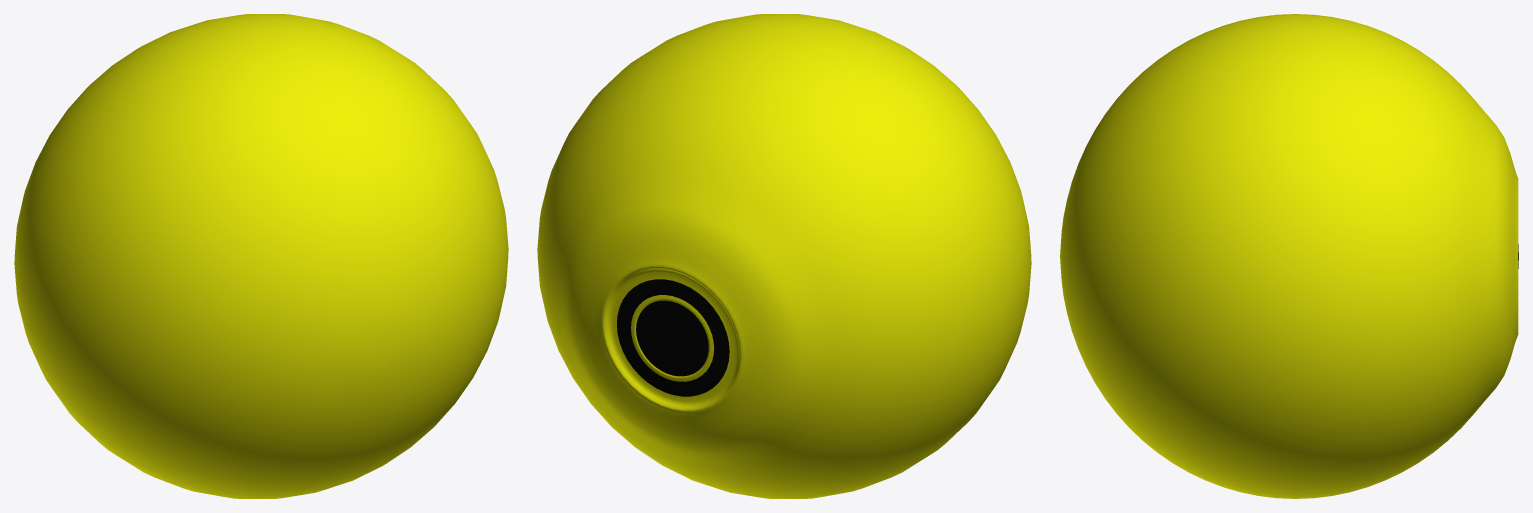
File: Eyeball.fbx
3 renders of one model, left to right at view 1: azimuth 30°, elevation 25°; view 2: azimuth 150°, elevation 25°; view 3: azimuth 270°, elevation 25°, orthographic.
Visible parts, largest first — view 1: Ball; view 2: Ball, Pupil_Topping; view 3: Ball.
Boxes of the visible parts, x1=… form: Ball: x1=14, y1=14, x2=508, y2=498; Ball: x1=537, y1=14, x2=1031, y2=498; Pupil_Topping: x1=617, y1=279, x2=729, y2=396; Ball: x1=1060, y1=14, x2=1518, y2=498.
Bounding box in the file's own units: 15.67 × 15.26 × 14.51.
